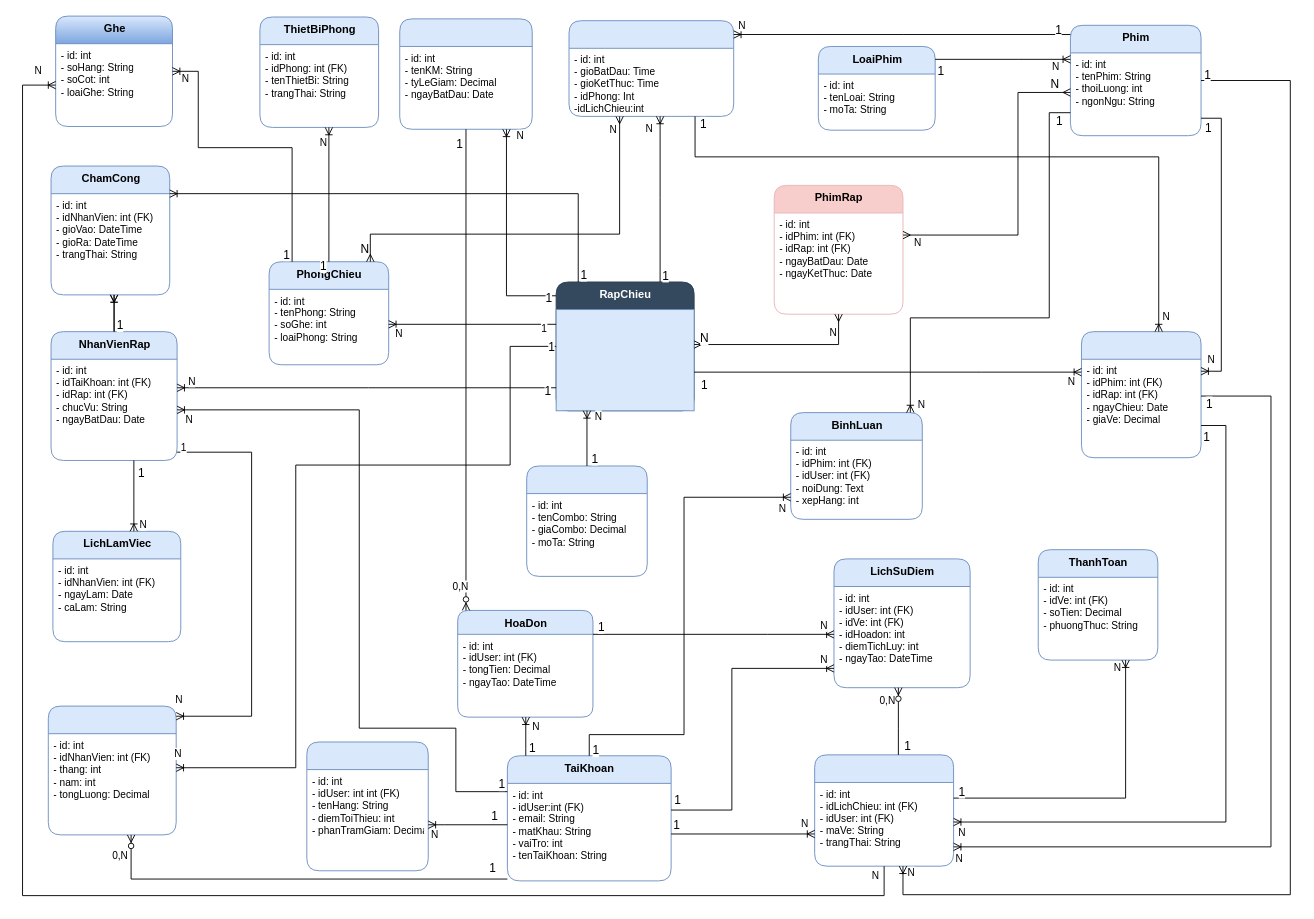
Some shapes in this 1314 by 919 pixel diagram are drawn without their labels. Each missing label, with the box of its shape:
- id: int - tenRap: String - diaChi: String - soDienThoai: String: (555, 309, 694, 411)
BangLuong: (47, 705, 176, 835)
ComboDoAn: (526, 465, 647, 576)
HangThanhVien: (306, 741, 428, 871)
KhungGioChieu: (568, 20, 734, 116)
KhuyenMai: (399, 18, 532, 129)
LichChieu: (1081, 331, 1201, 458)
Ve: (814, 754, 954, 866)
